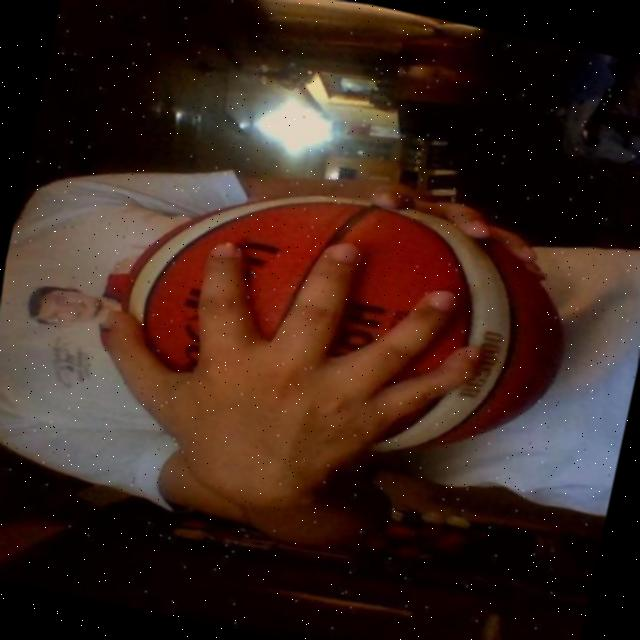ball: (116, 194, 559, 453)
